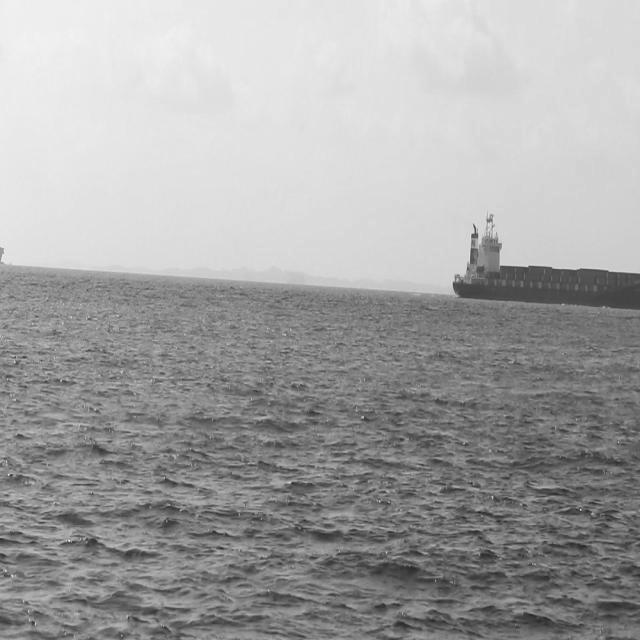ship: (447, 215, 639, 308)
